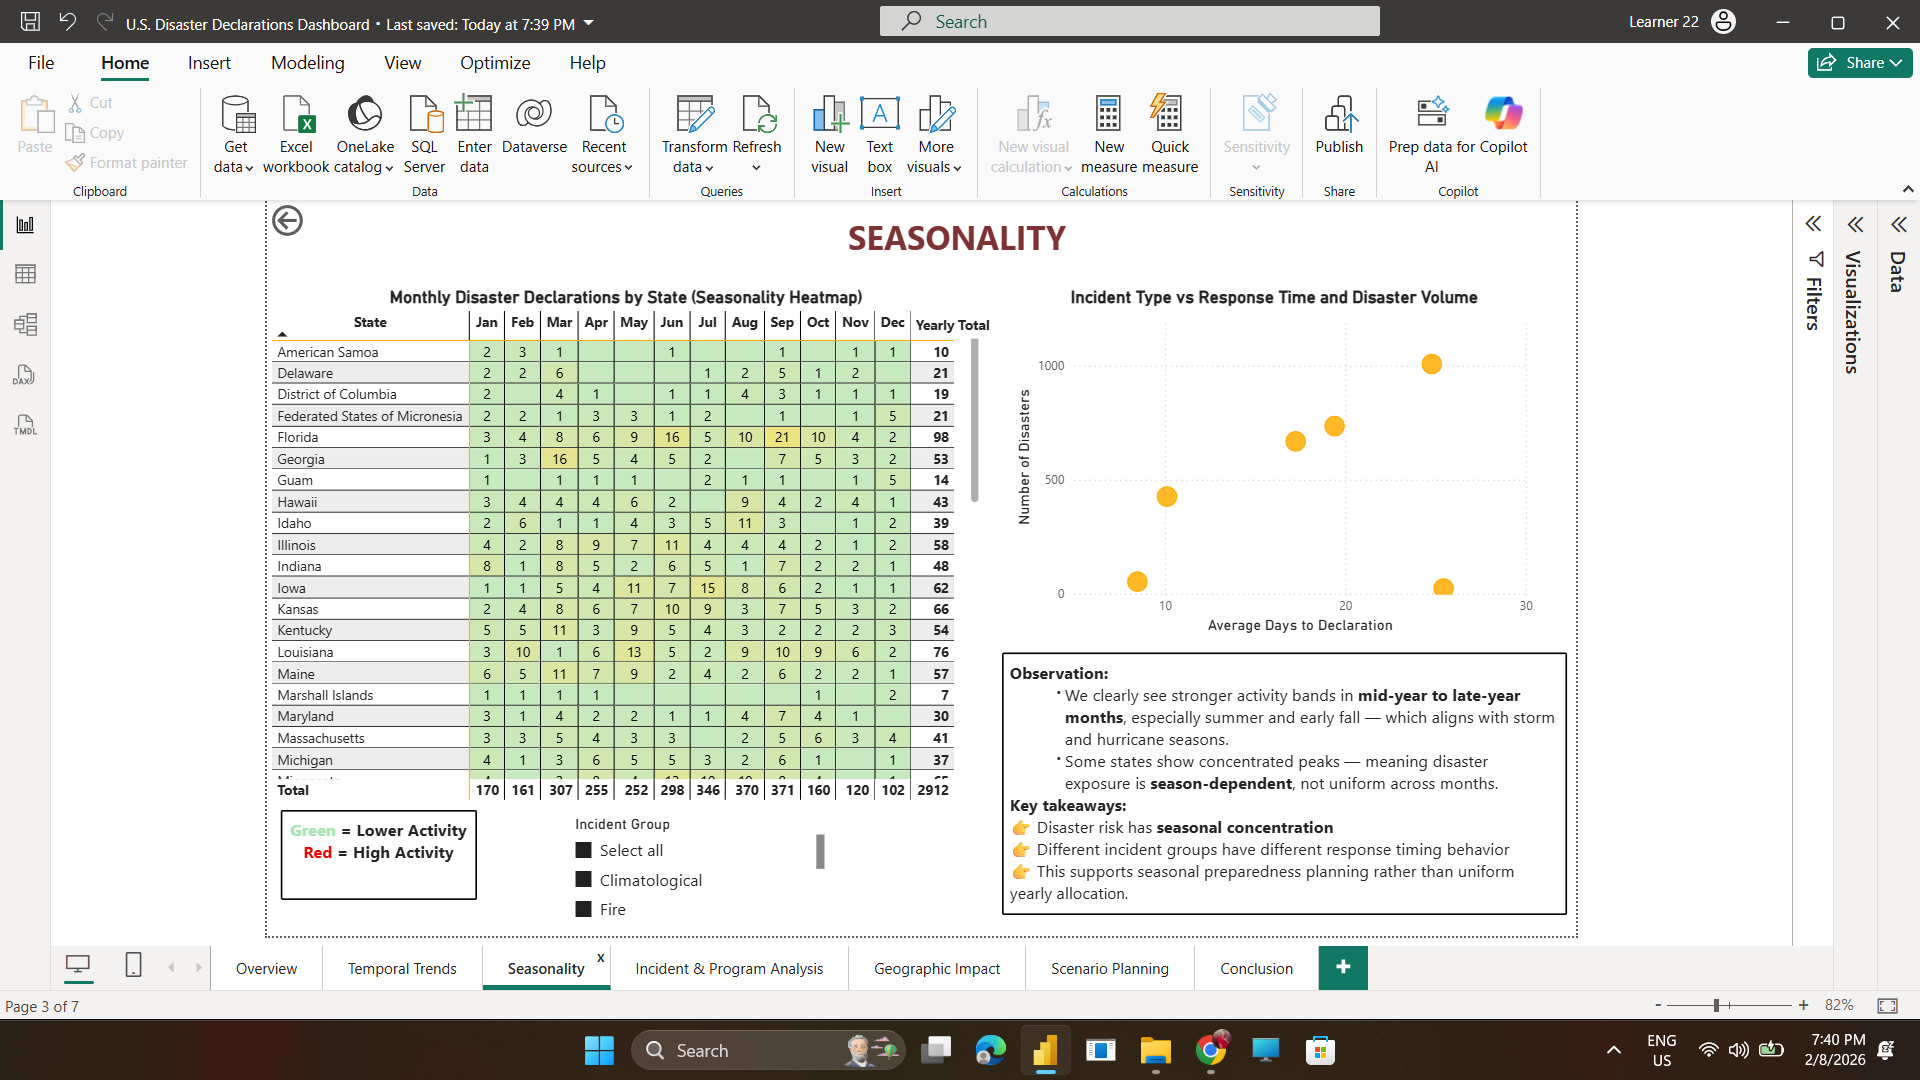

What the dashboard file says about the page in this screenshot:
{"tool":"powerbi","page":{"name":"Seasonality","canvas":[1280,720],"ordinal":2},"visuals":[{"type":"pivotTable","title":"Monthly Disaster Declarations by State (Seasonality Heatmap)","fields":{"Rows":["US_States_and_Territories.Full Name"],"Values":["US Disaster_Declarations.Total_Disasters"],"Columns":["DimDate.Month Name"]},"box":[0,84.4,701.9,507.5],"z":0},{"type":"slicer","fields":{"Values":["US Disaster_Declarations.Incident Group"]},"box":[288.6,596.7,261.7,112.5],"z":1000},{"type":"scatterChart","title":"Incident Type vs Response Time and Disaster Volume","fields":{"X":["US Disaster_Declarations.Average_Time_to_Declaration"],"Y":["US Disaster_Declarations.Disasters by_incident"],"Category":["US Disaster_Declarations.Incident Group"]},"box":[727.6,84.4,516,344.8],"z":2000},{"type":"textbox","box":[400,10,550,52.5],"z":3000},{"type":"textbox","box":[629.8,107.6,97.8,28.1],"z":4000},{"type":"textbox","box":[13.5,596.7,192,88],"z":5000},{"type":"actionButton","box":[0,0,100,40],"z":6000},{"type":"textbox","box":[719,442.7,552.7,256.8],"z":7000}]}

Visuals, with their boxes on the page's 1280x720 design canvas (x1, y1, x2, y2). These are canvas units, not pixel positions in the 1920x1080 screenshot, which may show the page scaled, cropped or inside an application window:
"Monthly Disaster Declarations by State (Seasonality Heatmap)" pivotTable: 0:84:702:592
slicer - US Disaster_Declarations.Incident Group: 289:597:550:709
"Incident Type vs Response Time and Disaster Volume" scatterChart: 728:84:1244:429
textbox: 400:10:950:62
textbox: 630:108:728:136
textbox: 14:597:206:685
actionButton: 0:0:100:40
textbox: 719:443:1272:700
